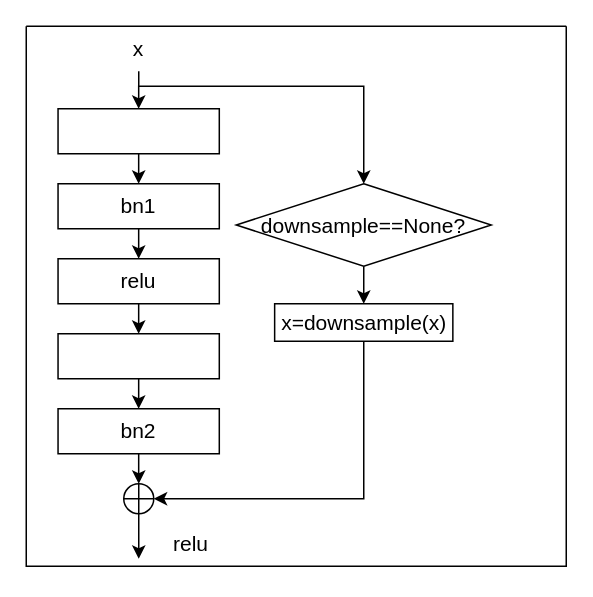
Image size: 593x597. Some labels were removed from this diagram. Here are the shapes that lost their labels. From the top down, the box of each, then its label:
(57, 107, 219, 154): conv1
(57, 332, 219, 379): conv2
